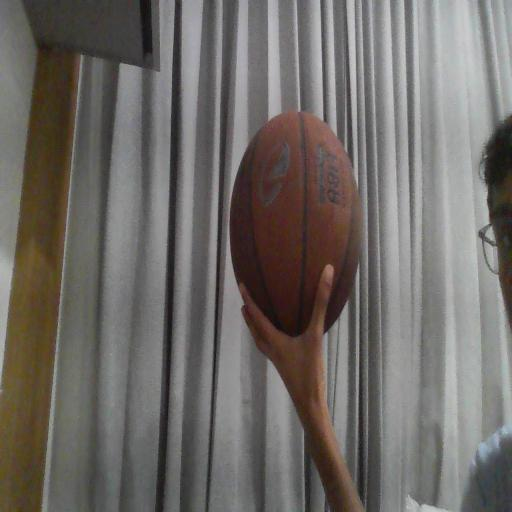basketball: (230, 112, 361, 335)
